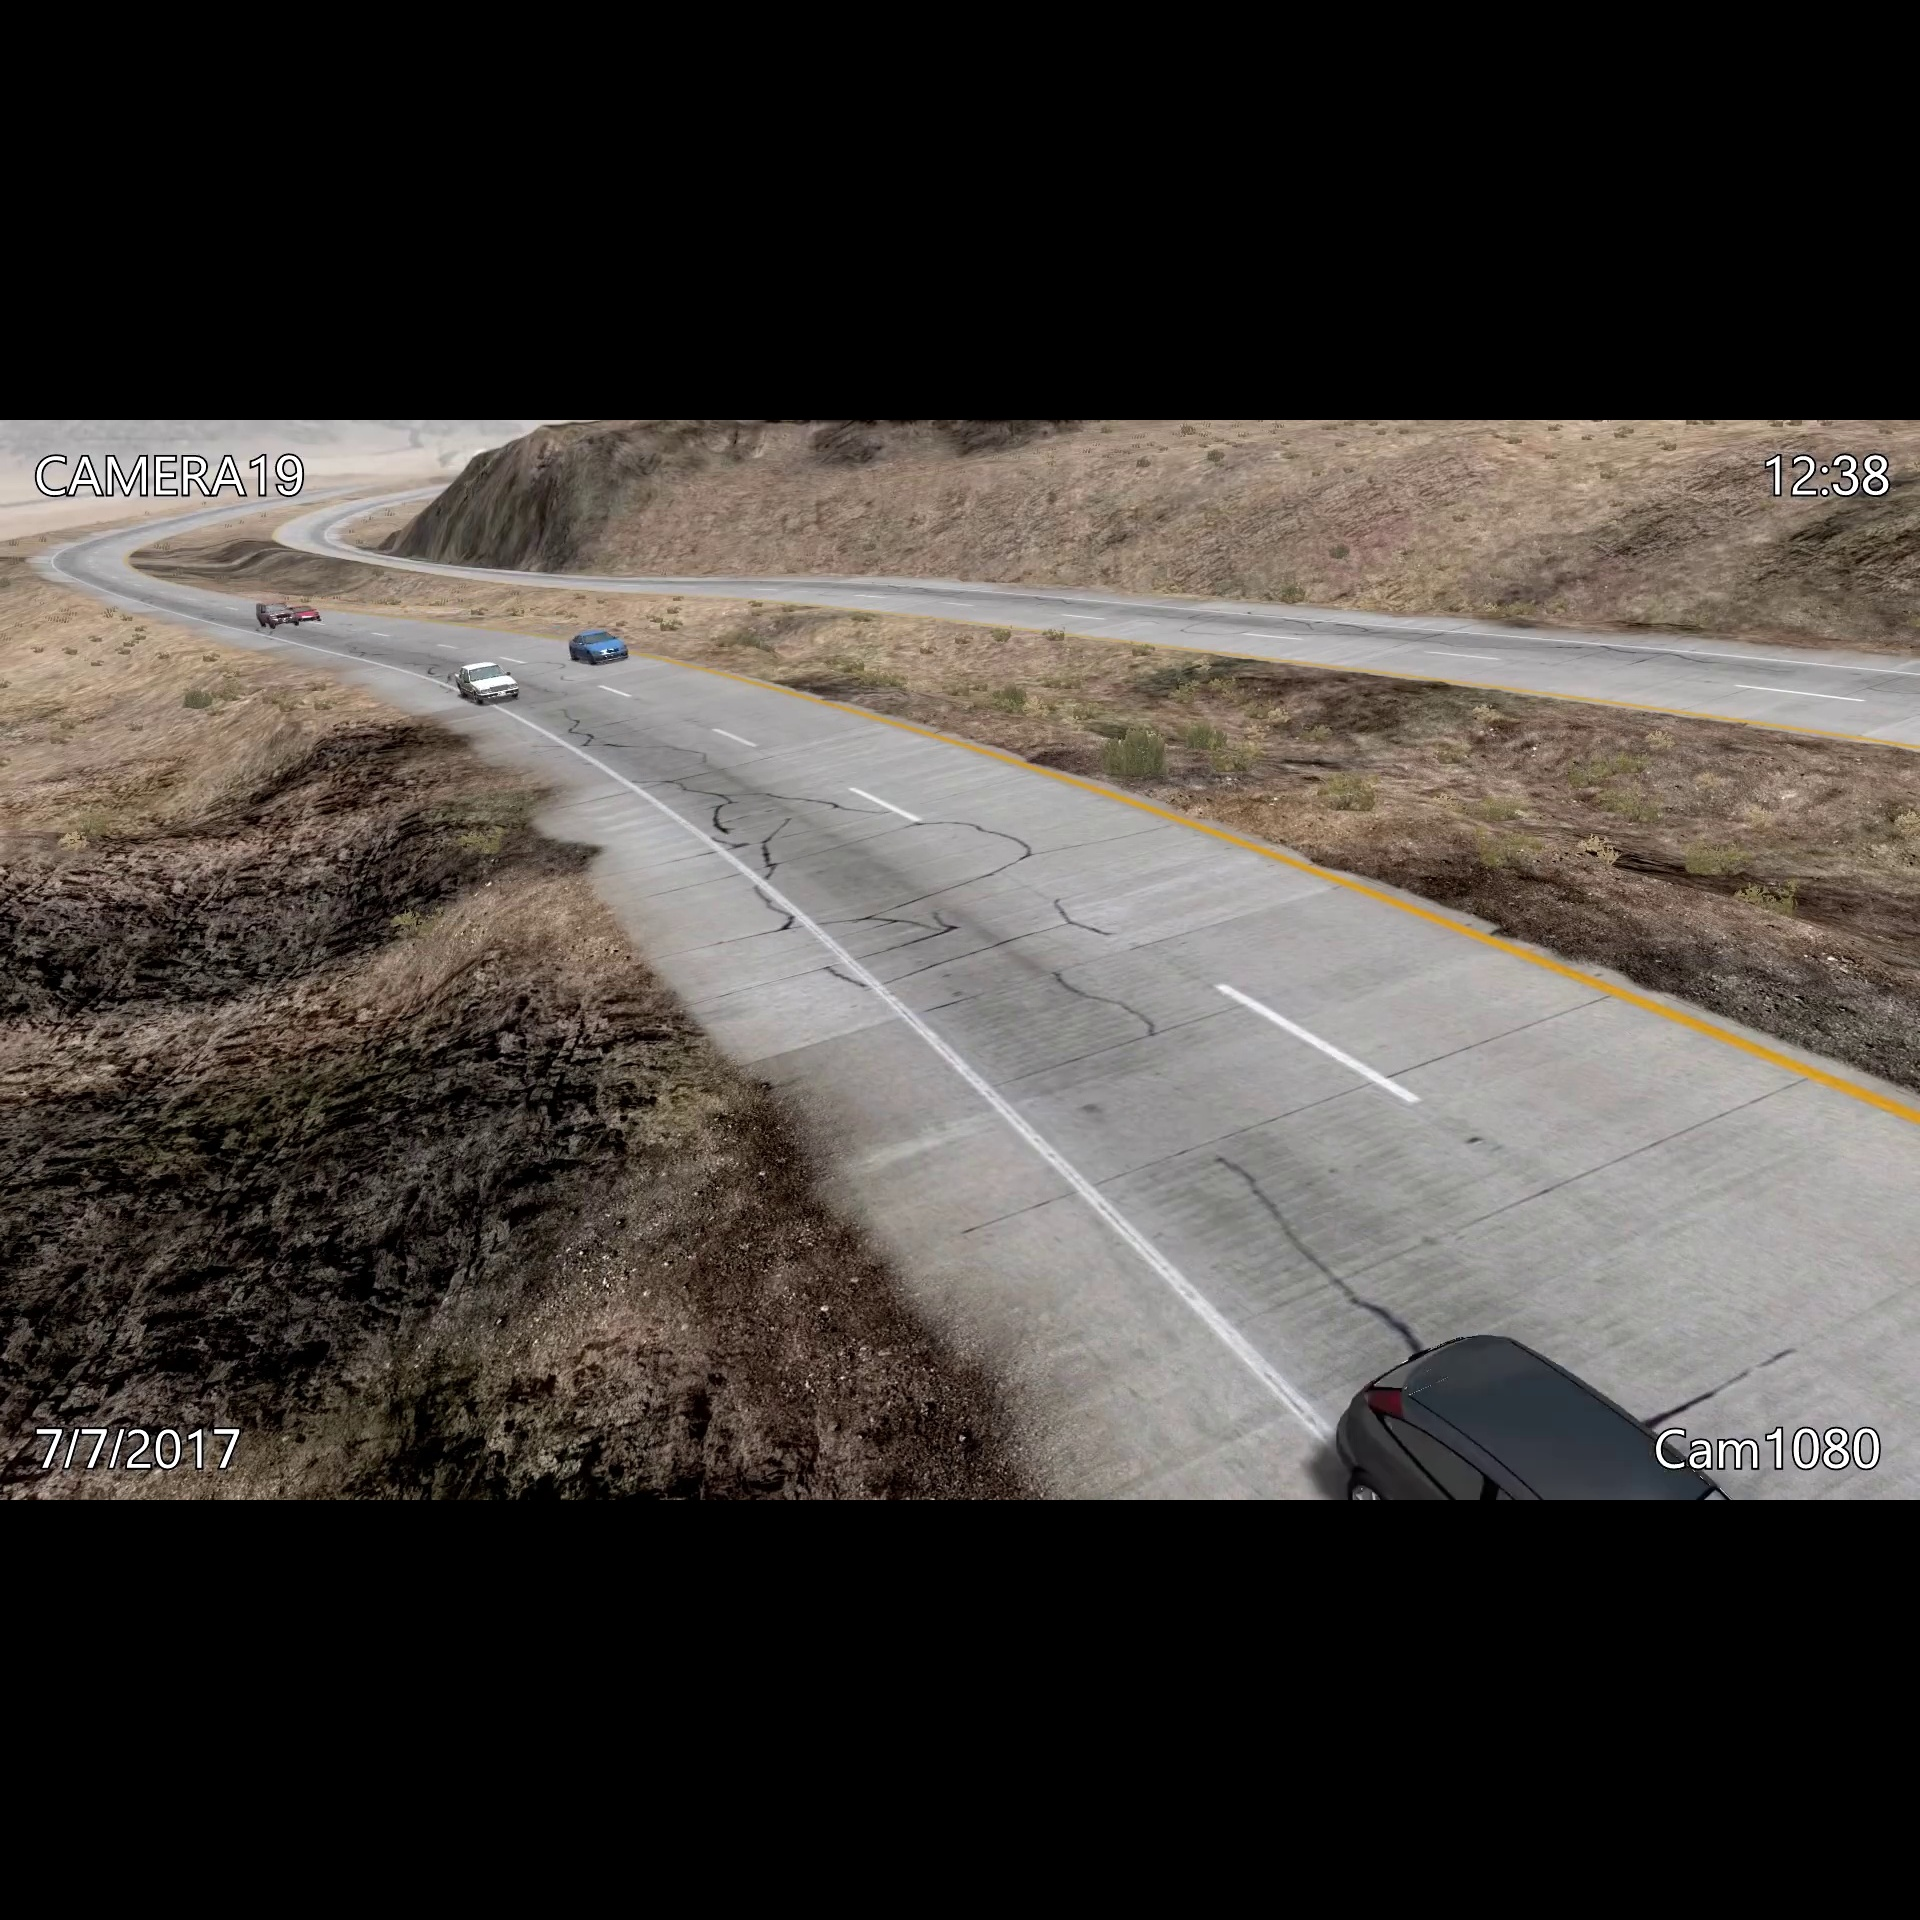vehicle: (1322, 1319, 1742, 1502), (448, 658, 522, 714), (559, 624, 631, 666), (248, 598, 294, 633), (292, 605, 325, 628)
